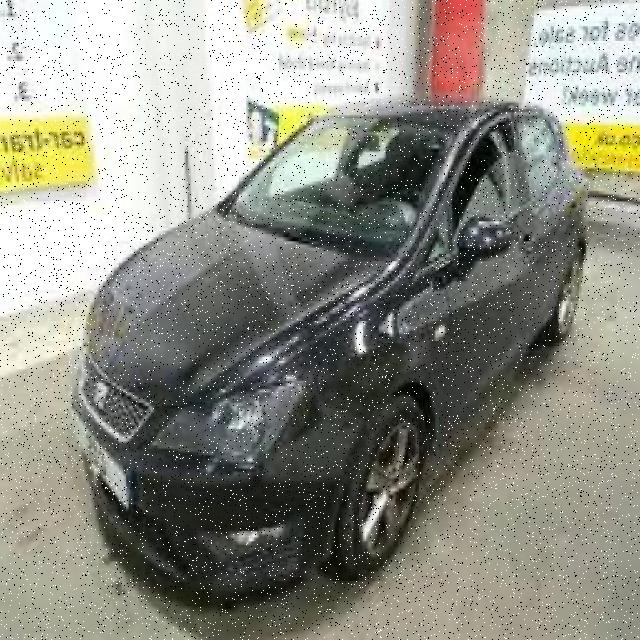damage: (200, 451, 253, 485)
